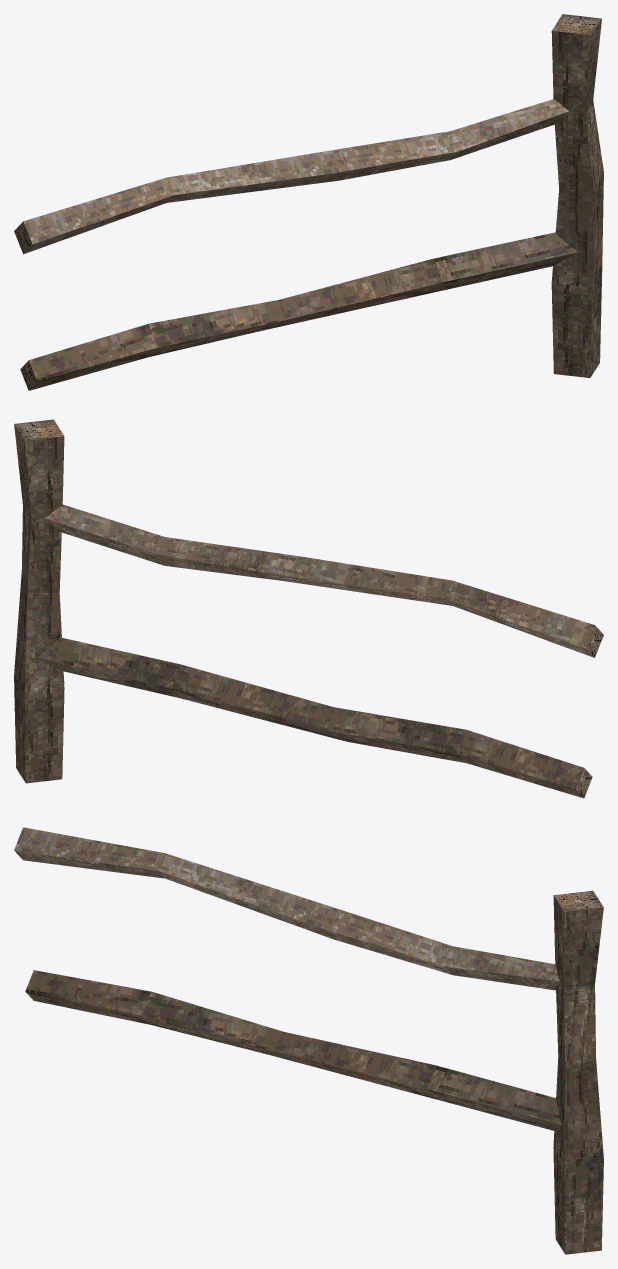
File: wooden_fence_open.glb
The picture shows the model from 3 angles, top to bottom: view 1: azimuth 30°, elevation 25°; view 2: azimuth 150°, elevation 25°; view 3: azimuth 330°, elevation 25°; orthographic projection.
Parts seen in each view (by area): view 1: wooden_fence_open; view 2: wooden_fence_open; view 3: wooden_fence_open.
Boxes of the visible parts, x1,y1,x2,y2 form: wooden_fence_open: (14,14,603,390); wooden_fence_open: (14,419,603,798); wooden_fence_open: (14,827,603,1254).
Bounding box in the file's own units: 2.12 × 1.2 × 0.1891.
1 material, 1 textured.
